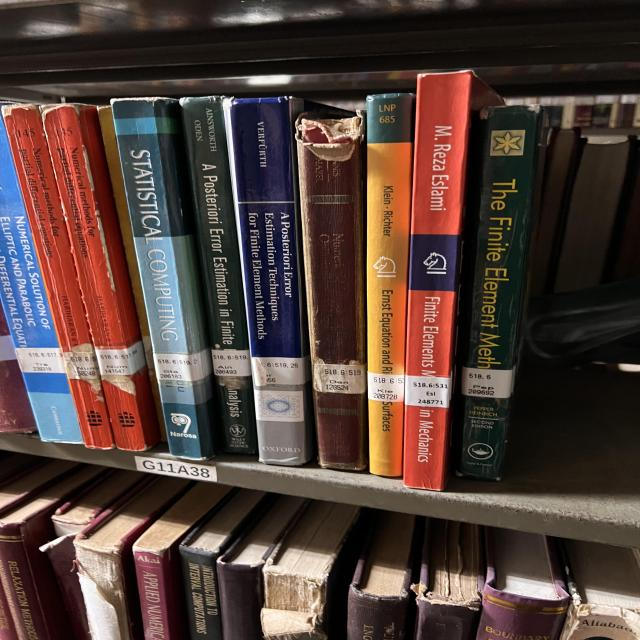Book: (227, 96, 350, 465), (403, 71, 500, 490), (43, 104, 160, 450), (112, 98, 220, 460), (3, 104, 113, 449), (457, 106, 547, 480), (180, 96, 257, 454), (0, 122, 82, 444), (297, 112, 367, 470), (367, 94, 415, 476)
Label: (153, 349, 212, 381), (95, 341, 147, 376), (252, 356, 310, 386), (313, 364, 367, 394), (462, 368, 513, 399), (405, 375, 452, 408), (15, 348, 65, 374), (367, 372, 405, 402), (62, 351, 100, 380), (212, 349, 252, 376)
